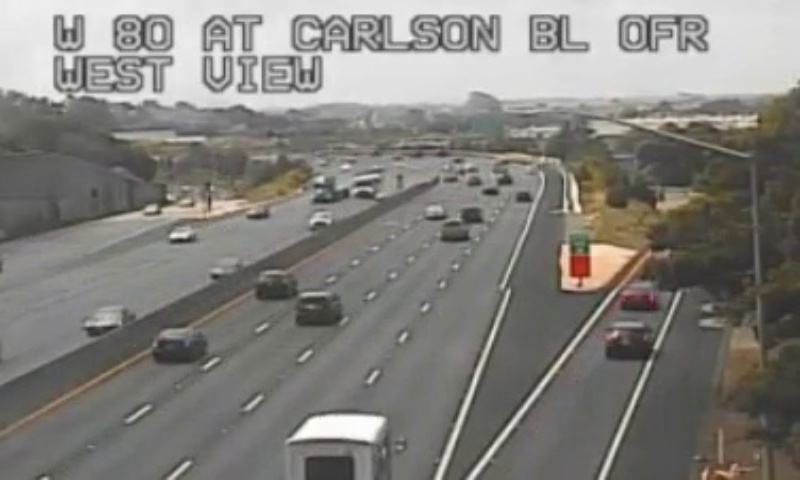car: (602, 323, 648, 360), (151, 328, 204, 360), (294, 292, 339, 324), (255, 270, 293, 299)
